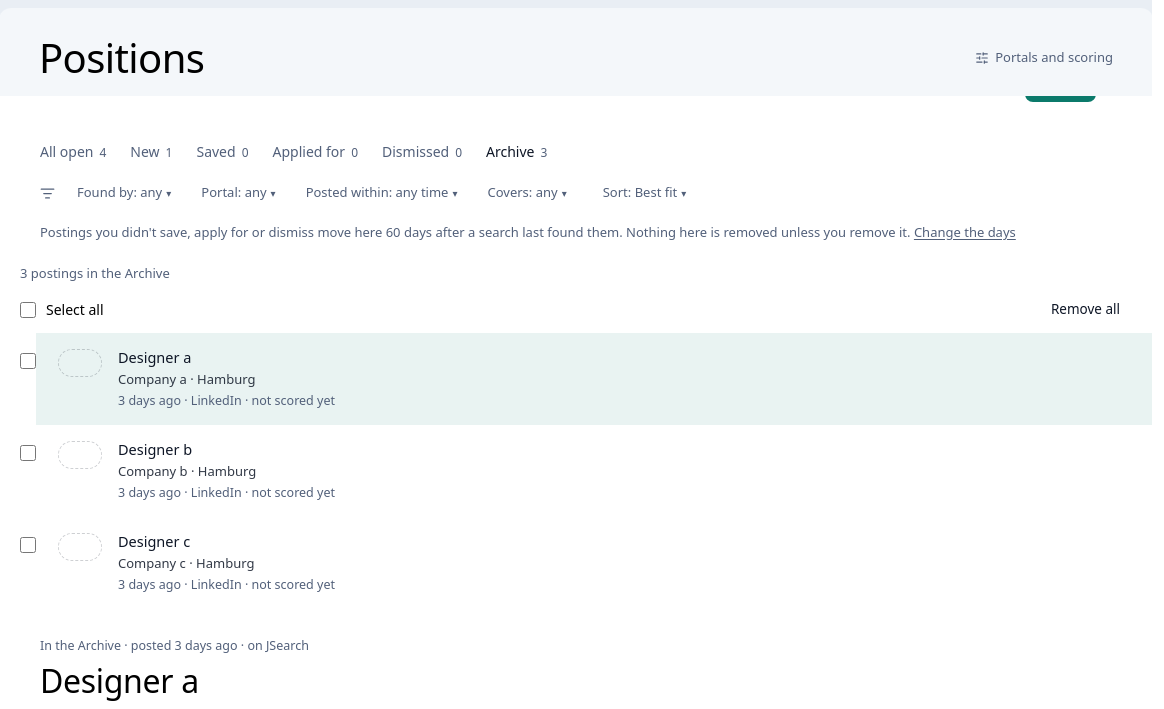
the Archive (E22-7) › moves back or removes those selected
The width and height of the screenshot is (1164, 709).
(page scrolled)
Click the checkbox named "Select “Designer a”": [28, 360] box [20,352,36,368]
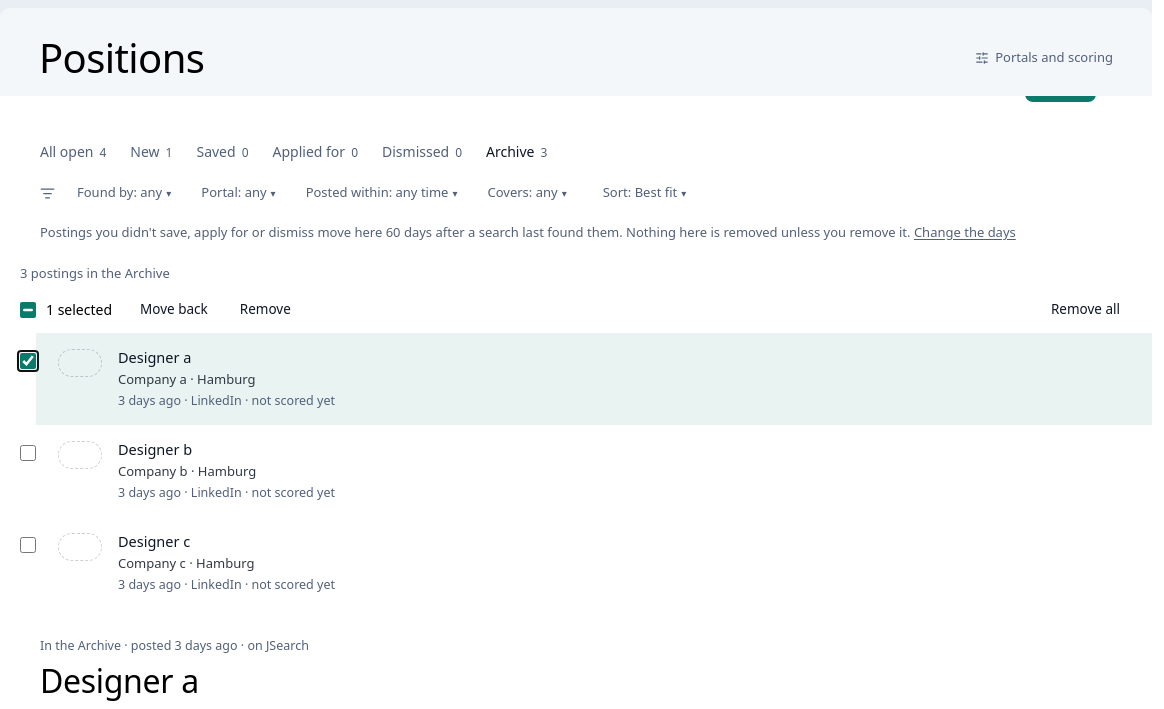
Click the checkbox named "Select “Designer c”": [28, 544] box [20,536,36,552]
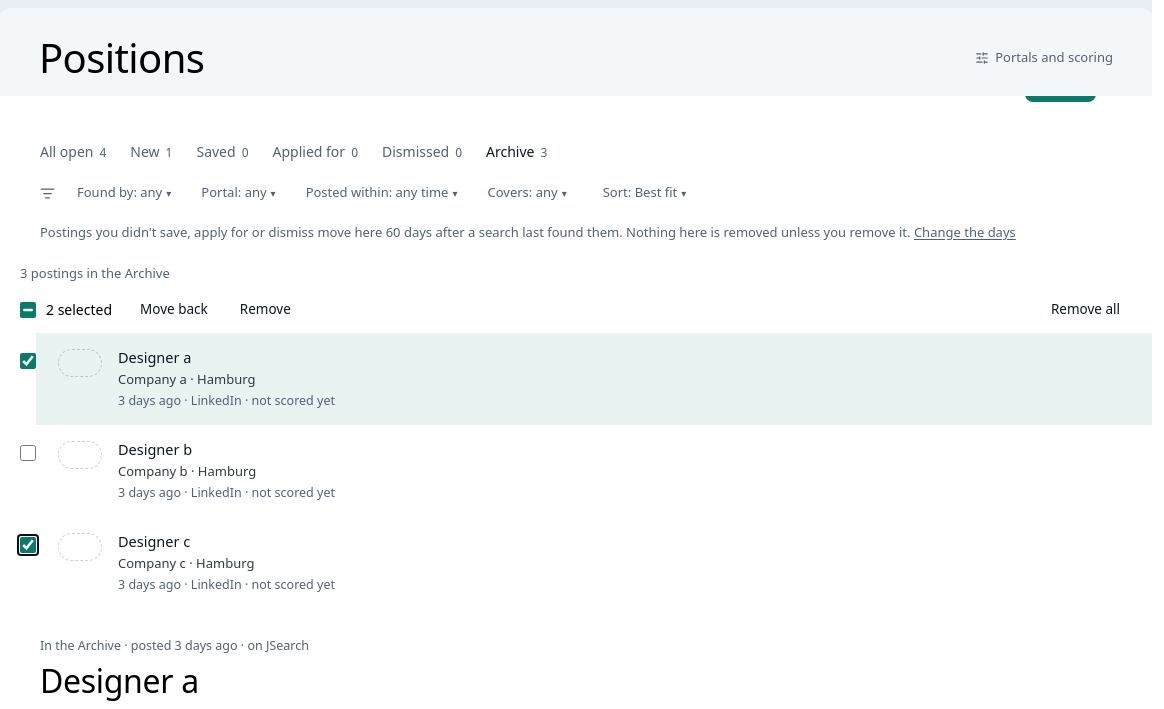
Click the button "Remove": [265, 310] box [228,294,303,324]
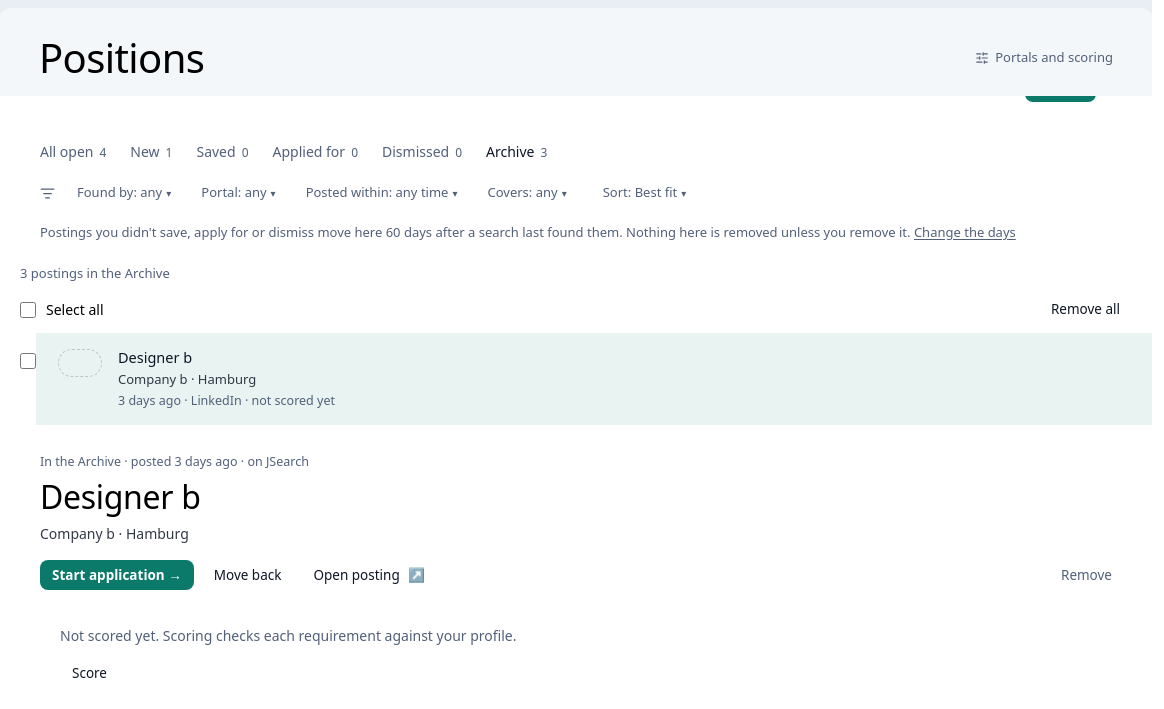
Now the number of buttons "Designer" is 1, box [36,332,1152,424]
